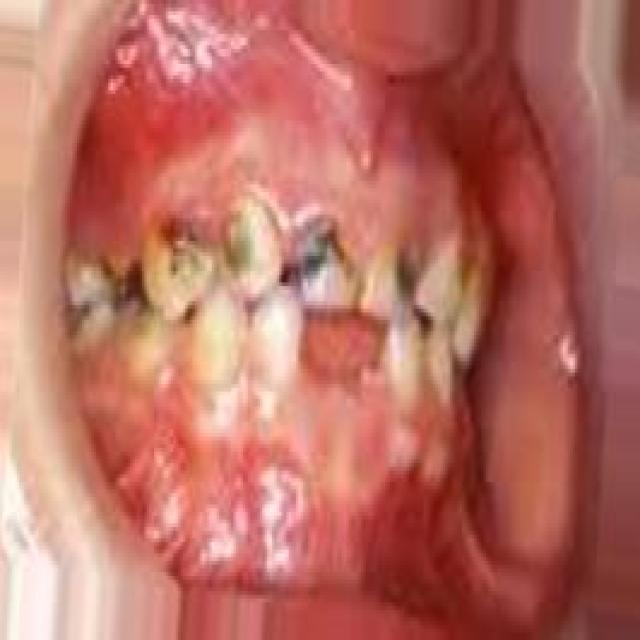caries: (132, 200, 212, 317), (293, 218, 357, 316), (359, 233, 419, 328)
